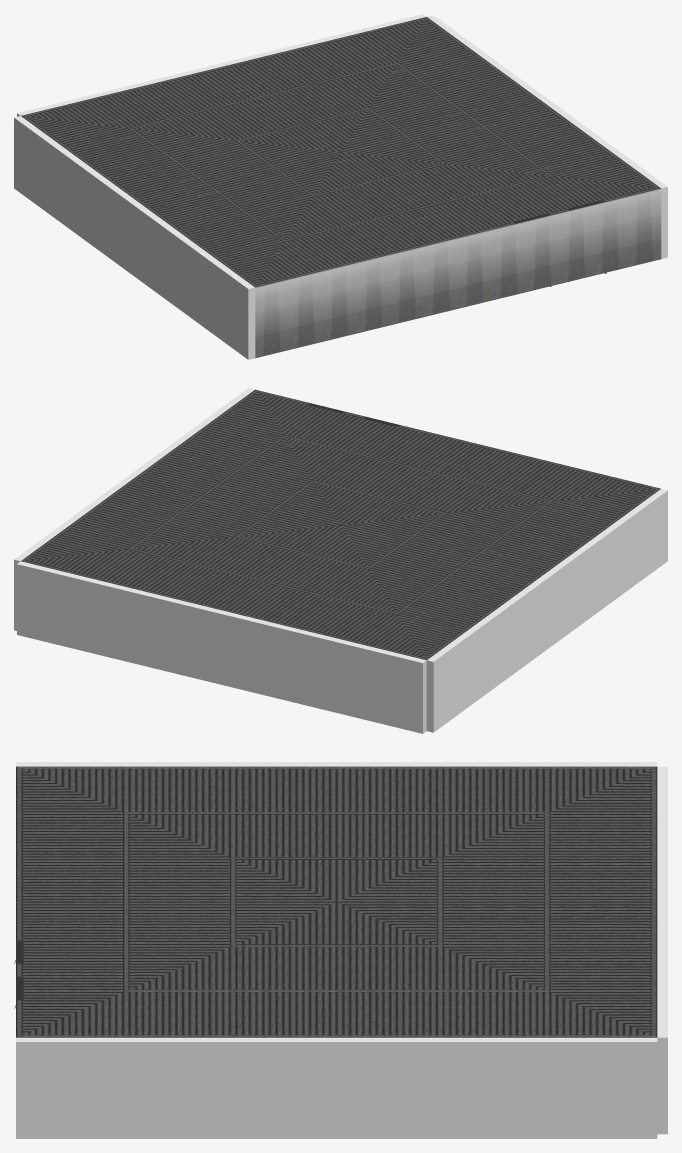
3 views of the same model, one above another, from view 1: azimuth 30°, elevation 25°; view 2: azimuth 150°, elevation 25°; view 3: azimuth 270°, elevation 25° (orthographic). The views are drawn at different scales.
Visible parts, largest first — view 1: Celling_08m.084; view 2: Celling_08m.084; view 3: Celling_08m.084.
Boxes of the visible parts, left/top/right/bottom form: Celling_08m.084: left=14, top=14, right=667, bottom=359; Celling_08m.084: left=14, top=388, right=667, bottom=733; Celling_08m.084: left=14, top=762, right=667, bottom=1138.
Bounding box in the file's own units: 2480 × 407 × 2448.
